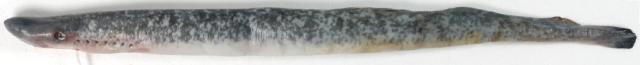Sirip Ekor: (548, 5, 640, 61)
